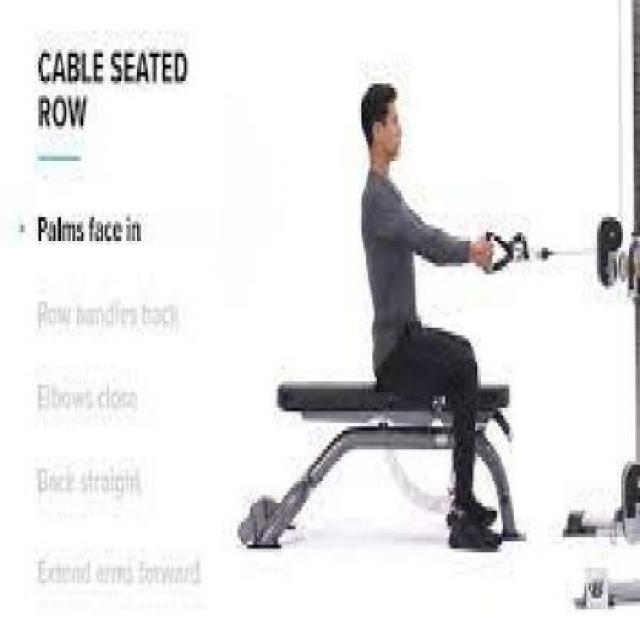Seated Cable Rows: (214, 43, 640, 617)
